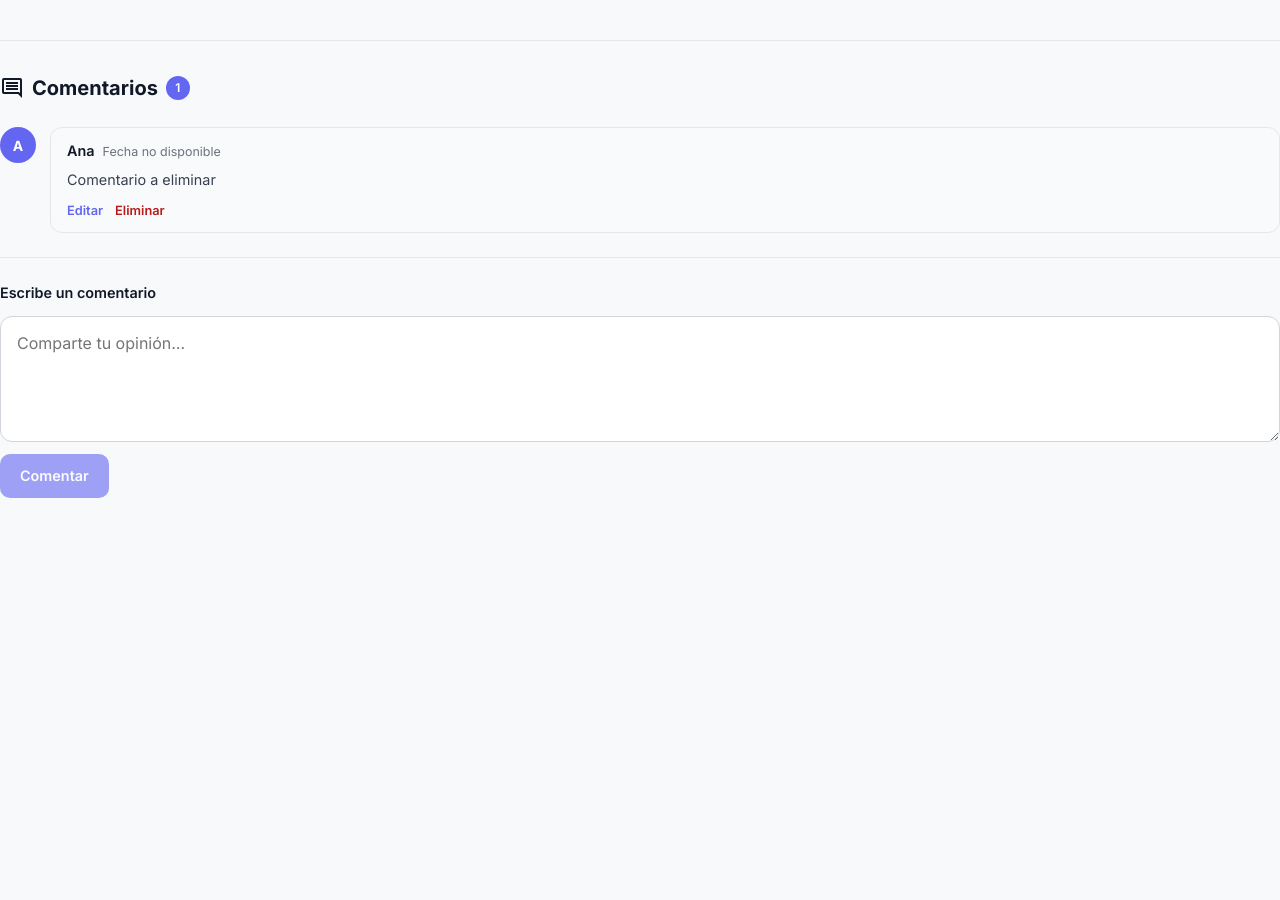
CommentSection › abre ConfirmModal al eliminar y recarga la lista después de confirmar
The width and height of the screenshot is (1280, 900).
Click the button "Eliminar".
click(140, 210)  # box 115,201 -> 165,220
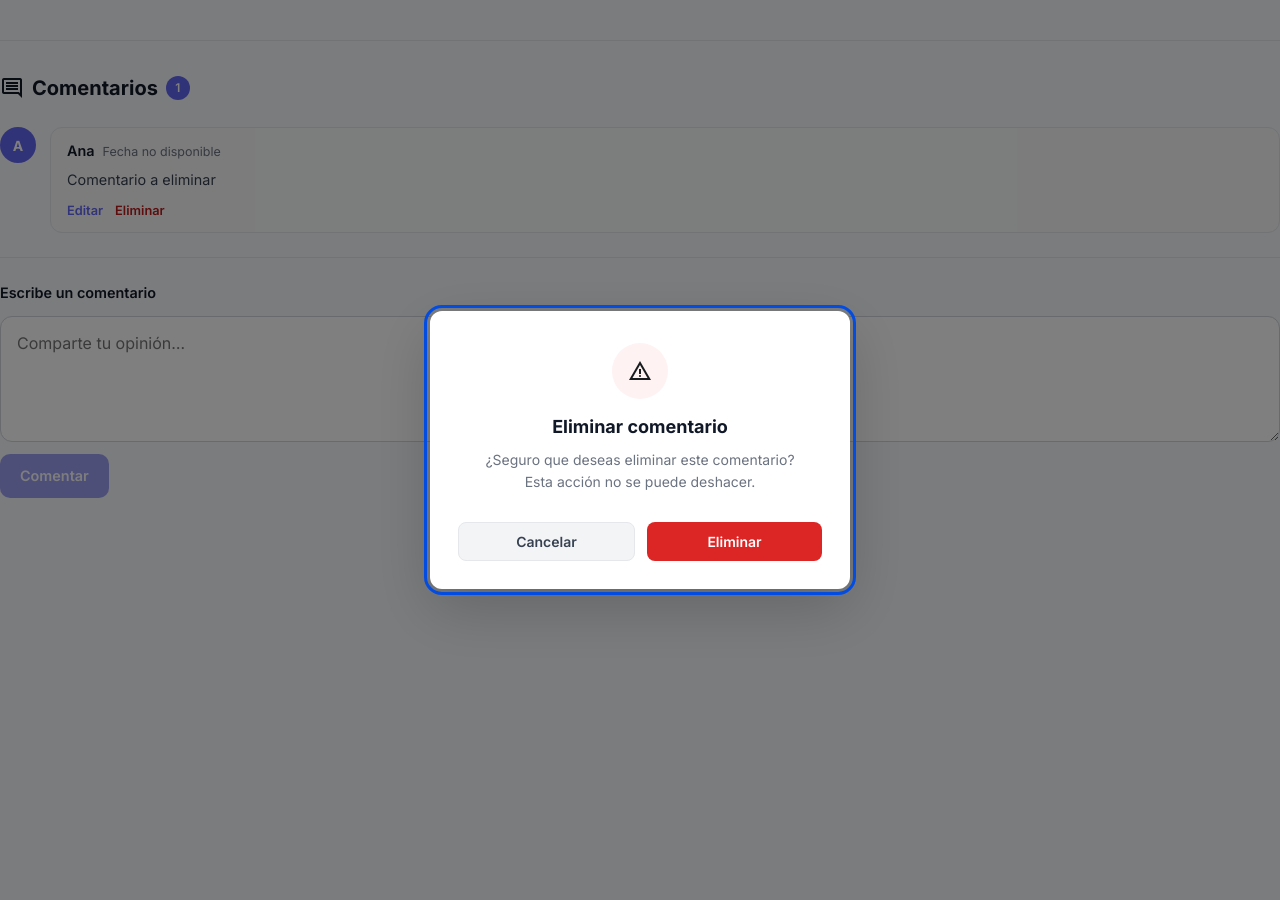
Check: the dialog is shown, box 430,311 -> 850,589
Check: the dialog shows "Eliminar comentario", box 552,416 -> 728,437
Click the button "Eliminar".
click(734, 541)  # box 647,522 -> 822,561
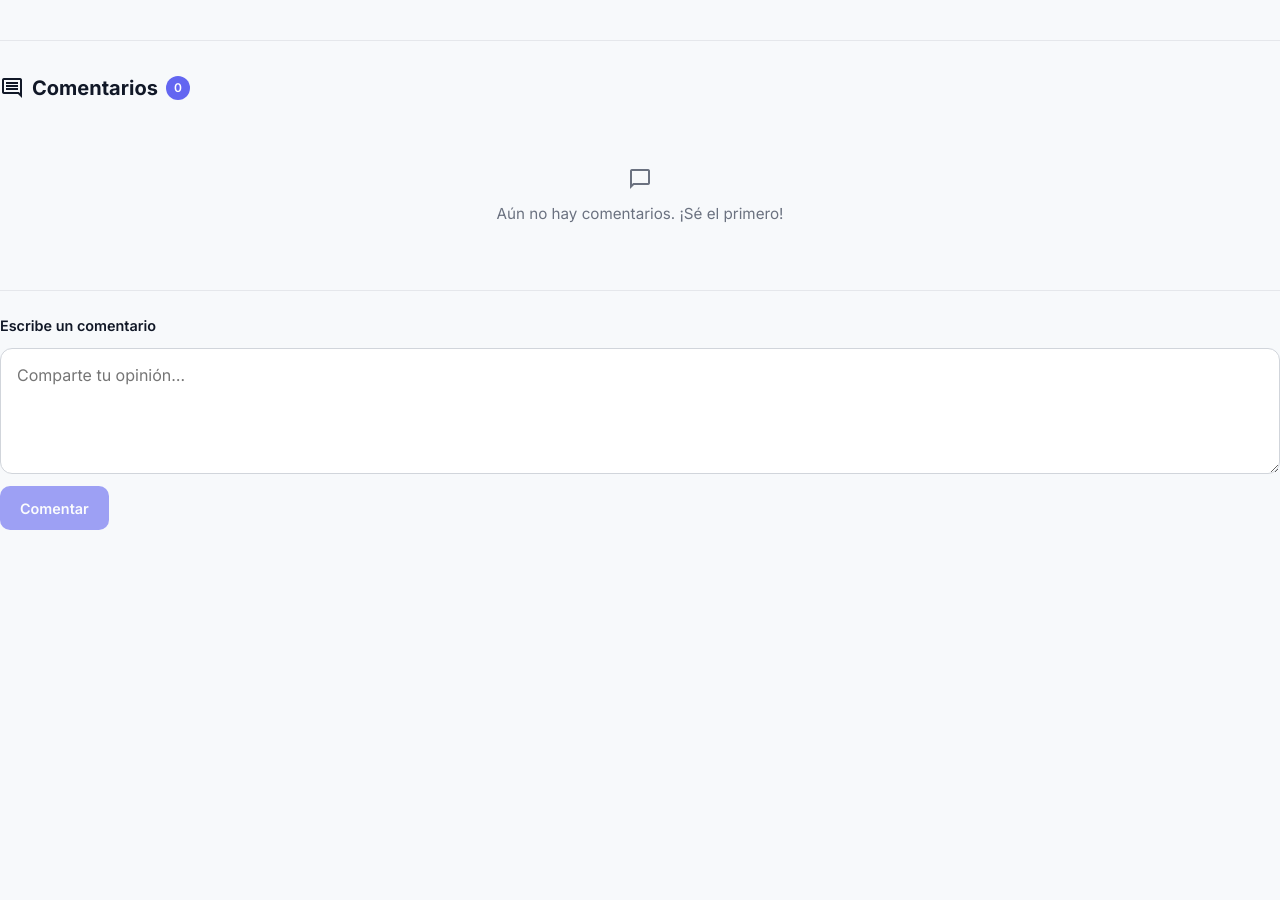
Check: the dialog is gone
Check: the text "Comentario a eliminar" is gone
